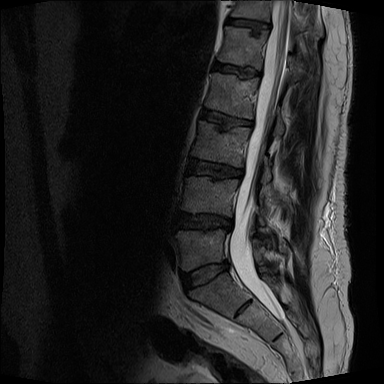Degenerative Disc Disease (DDD): (203, 53, 264, 83), (218, 13, 275, 33)
Lumbar Disc Bulge (LDB): (166, 205, 239, 238)
Normal IVD: (172, 254, 231, 298), (181, 153, 246, 185), (193, 102, 257, 133)
